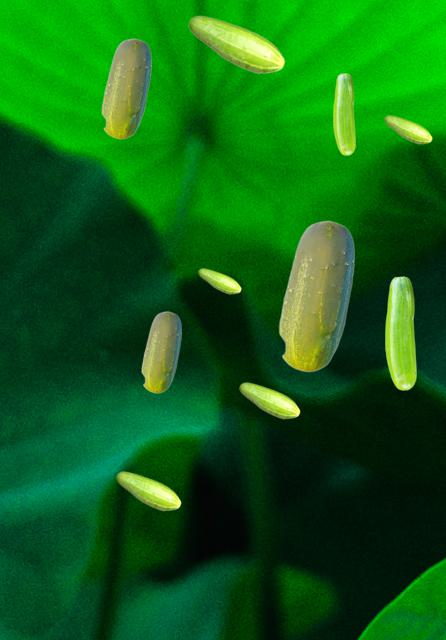cucumber: (278, 220, 353, 371), (188, 15, 284, 73), (101, 38, 150, 138), (385, 276, 415, 389), (141, 311, 180, 392), (116, 471, 180, 510), (239, 382, 299, 418), (333, 73, 354, 154), (384, 115, 431, 143), (198, 268, 240, 293)
